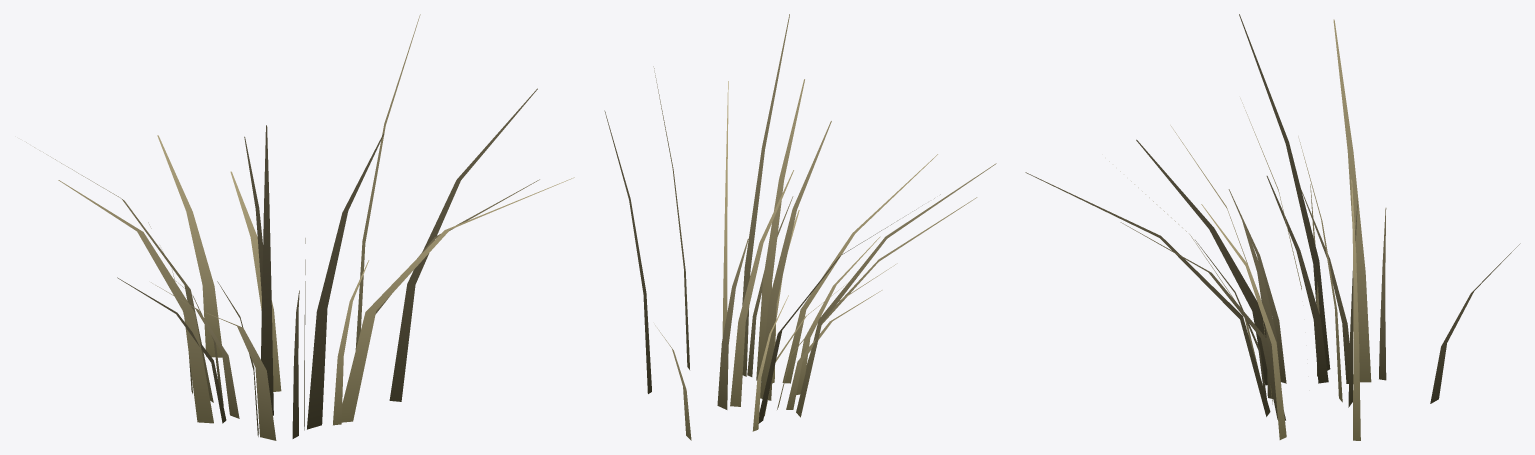
The model's file is grass-dry.glb.
3 views of the same model, side by side, from view 1: azimuth 30°, elevation 25°; view 2: azimuth 150°, elevation 25°; view 3: azimuth 270°, elevation 25° (orthographic). The views are drawn at different scales.
Parts seen in each view (by area): view 1: grass-dry; view 2: grass-dry; view 3: grass-dry.
Part boxes in pixels (x1,y1,x2,y2): grass-dry: (26,14,574,440); grass-dry: (604,14,996,440); grass-dry: (1025,14,1520,440).
Bounding box in the file's own units: 0.7311 × 0.5212 × 0.8179.
